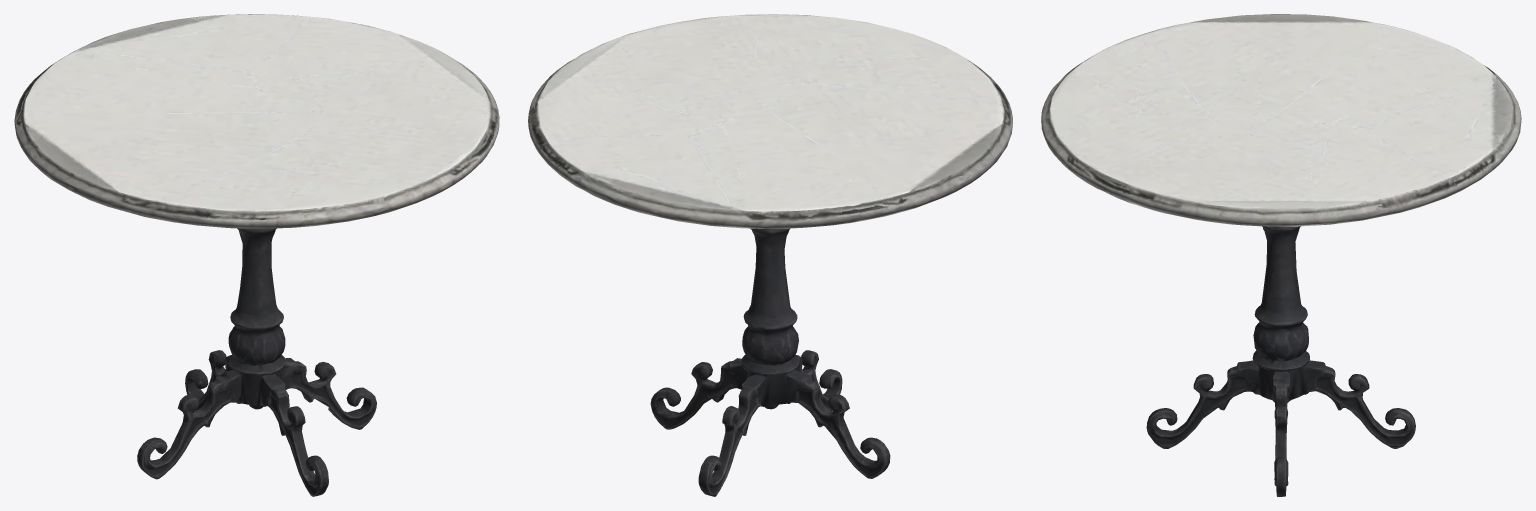
File: terracoBistro.glb
The picture shows the model from 3 angles, left to right: view 1: azimuth 30°, elevation 25°; view 2: azimuth 150°, elevation 25°; view 3: azimuth 270°, elevation 25°; orthographic projection.
Size of the model in its own units: 1.9 by 1.47 by 1.9.
Materials: 1 (1 with a texture image).
